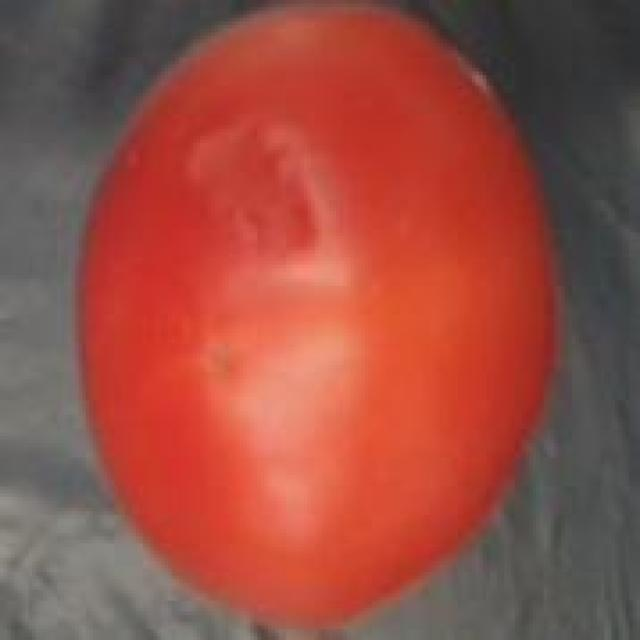ripe tomato: (68, 3, 565, 640)
